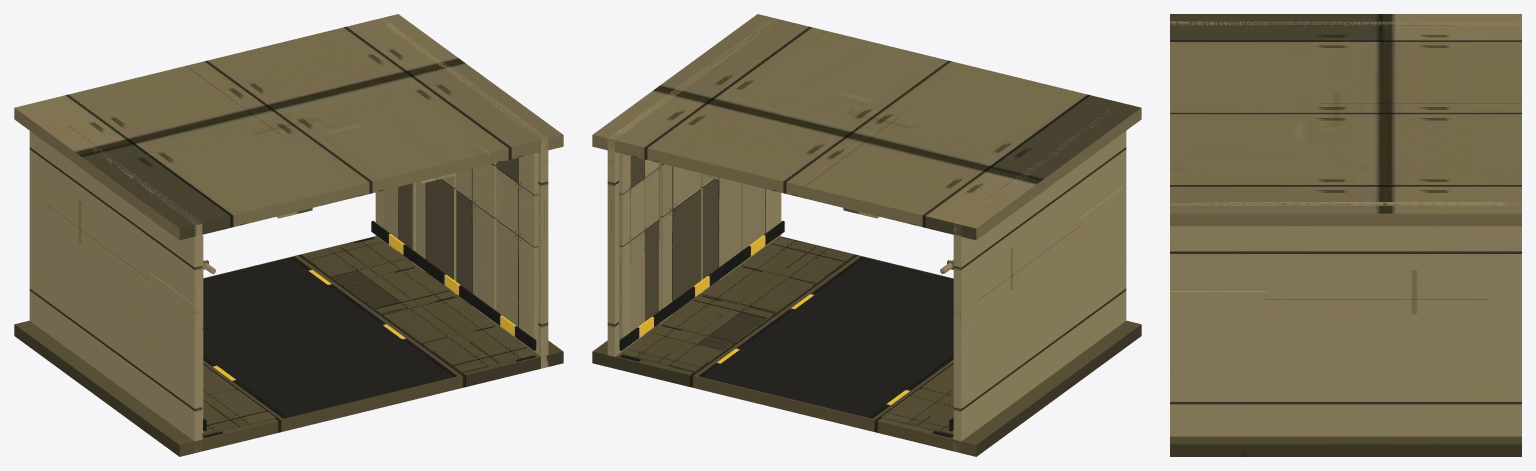
The model's file is hangar_koridor_lonca.glb.
3 views of the same model, side by side, from view 1: azimuth 30°, elevation 25°; view 2: azimuth 150°, elevation 25°; view 3: azimuth 270°, elevation 25° (orthographic). The views are drawn at different scales.
Visible parts, largest first — view 1: LOD0_koridor; view 2: LOD0_koridor; view 3: LOD0_koridor.
Part boxes in pixels (bbox=[...]): LOD0_koridor: bbox=[14, 14, 563, 456]; LOD0_koridor: bbox=[592, 14, 1141, 456]; LOD0_koridor: bbox=[1170, 14, 1521, 456].
Bounding box in the file's own units: 10.2 × 5.8 × 7.6.
Materials: 1 (1 with a texture image).
